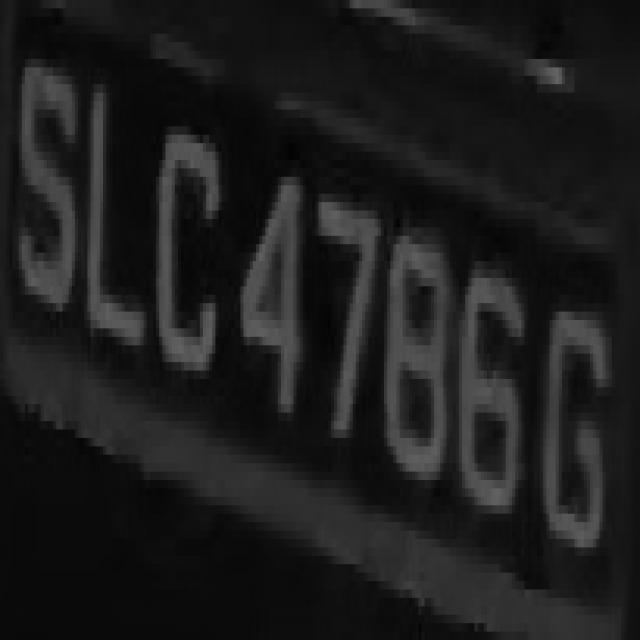4: (228, 135, 306, 446)
6: (456, 227, 528, 556)
7: (312, 135, 387, 463)
8: (378, 194, 452, 505)
C: (162, 75, 228, 412)
G: (546, 270, 612, 572)
L: (88, 59, 156, 379)
S: (19, 25, 84, 362)
